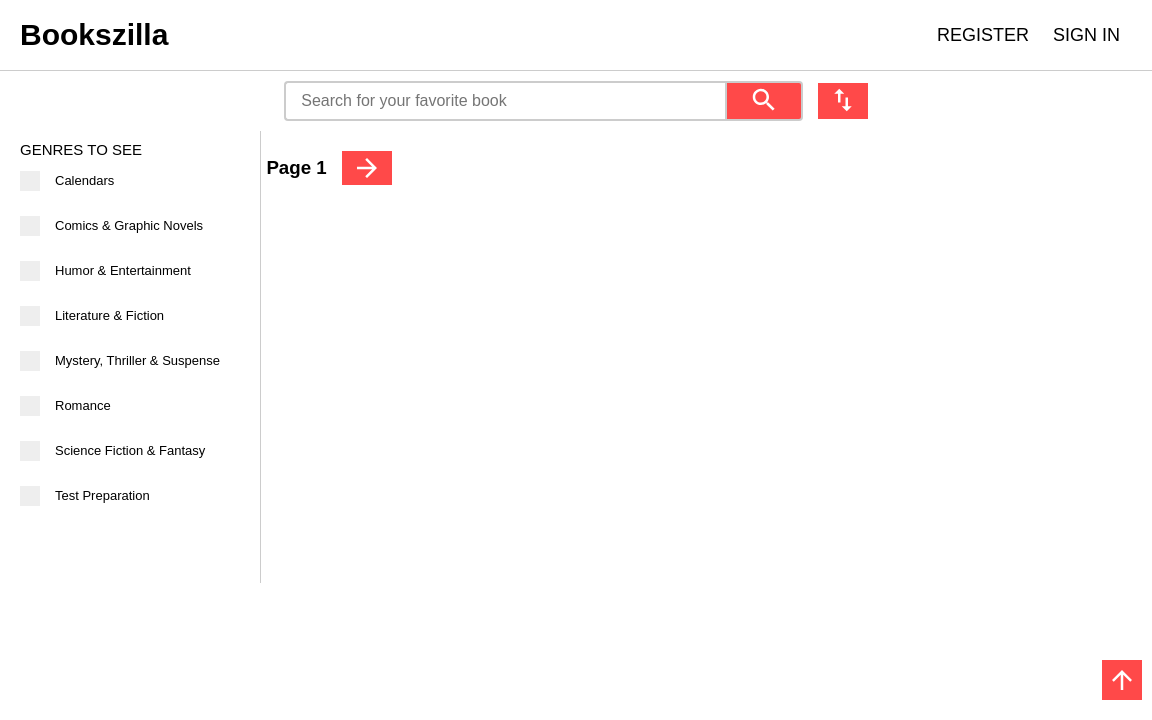
Register form › Password and confirm password not corresponding should result in unsuccessful register
Click the button with id "register-button": [983, 35] box [925,14,1041,56]
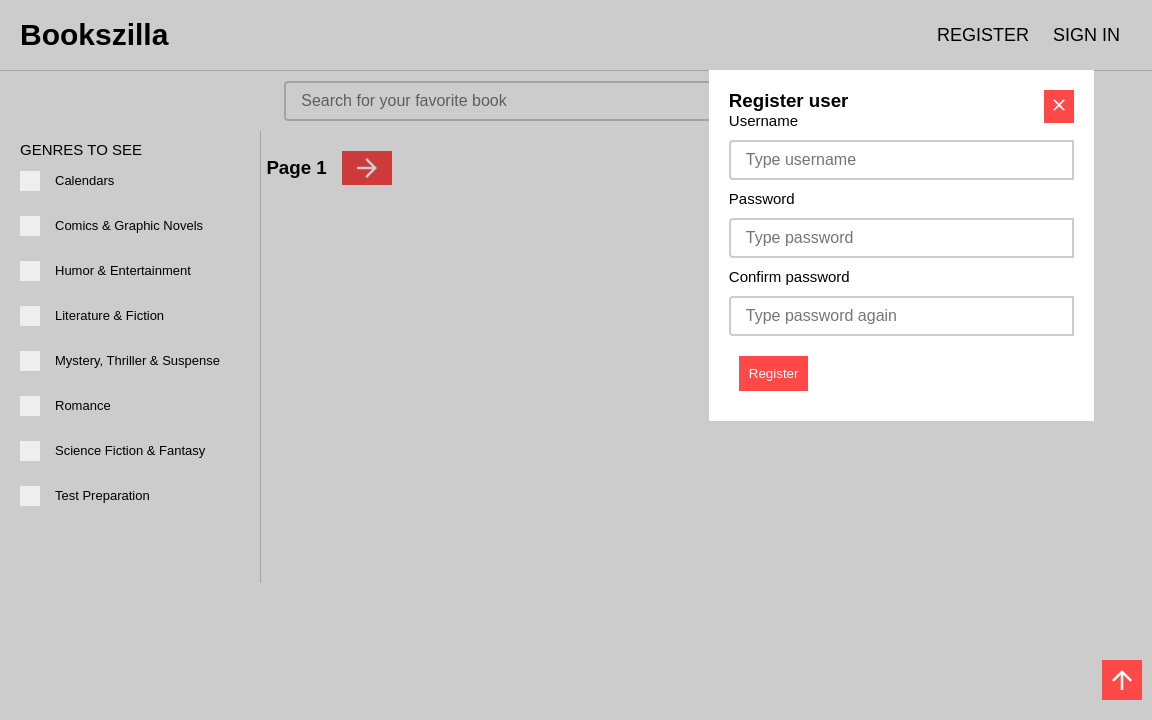
In the field with id "username-input": [902, 160] box [729,140,1075,180], type "myUsername"
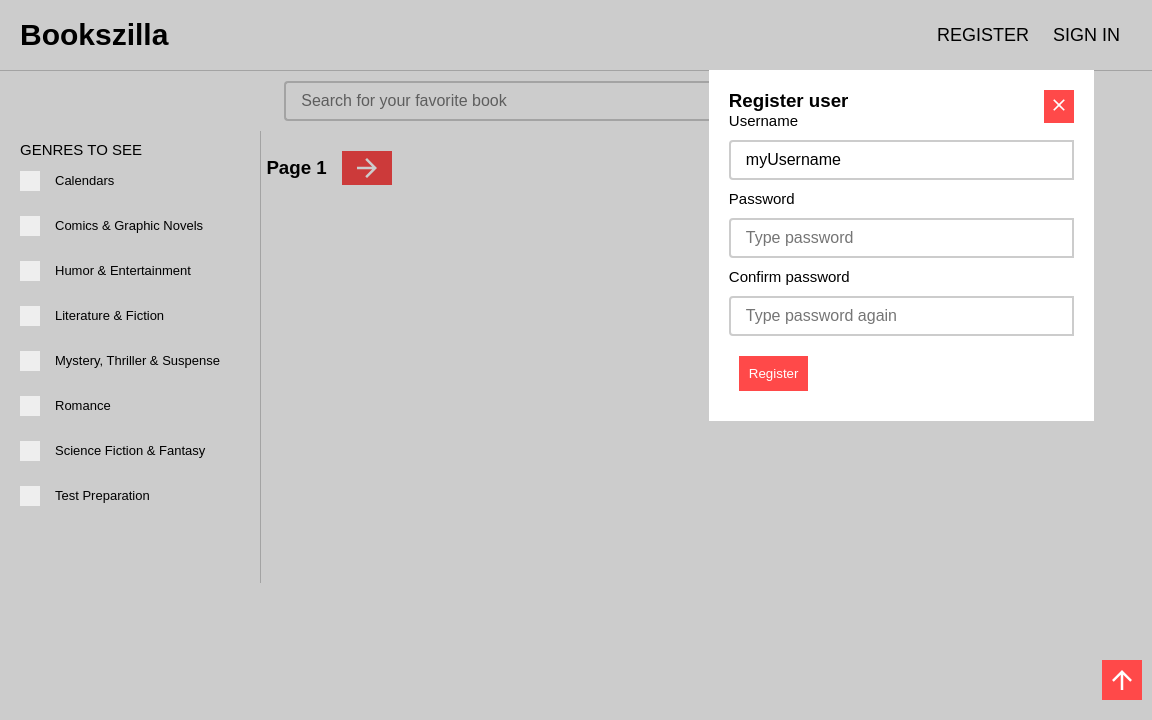
In the password field with placeholder "Type password": [902, 238] box [729,218,1075,258], type "myPassword"
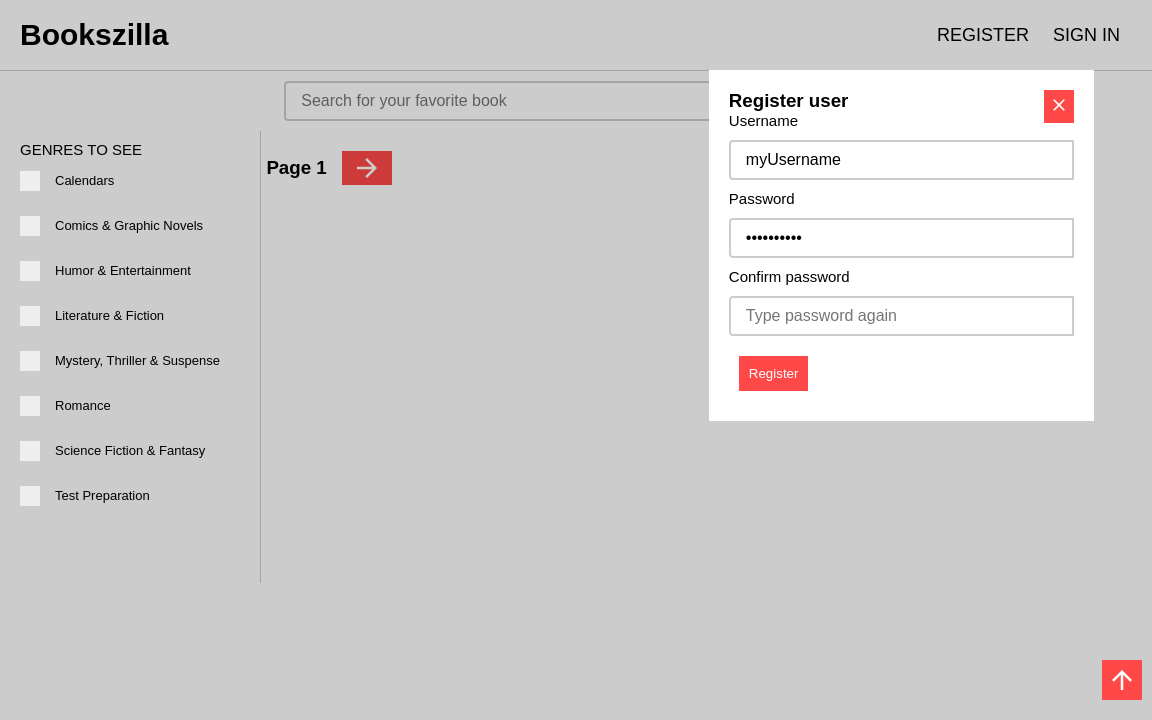
In the password field with id "confirm-password-input": [902, 316] box [729,296,1075,336], type "NOTmyPassword"
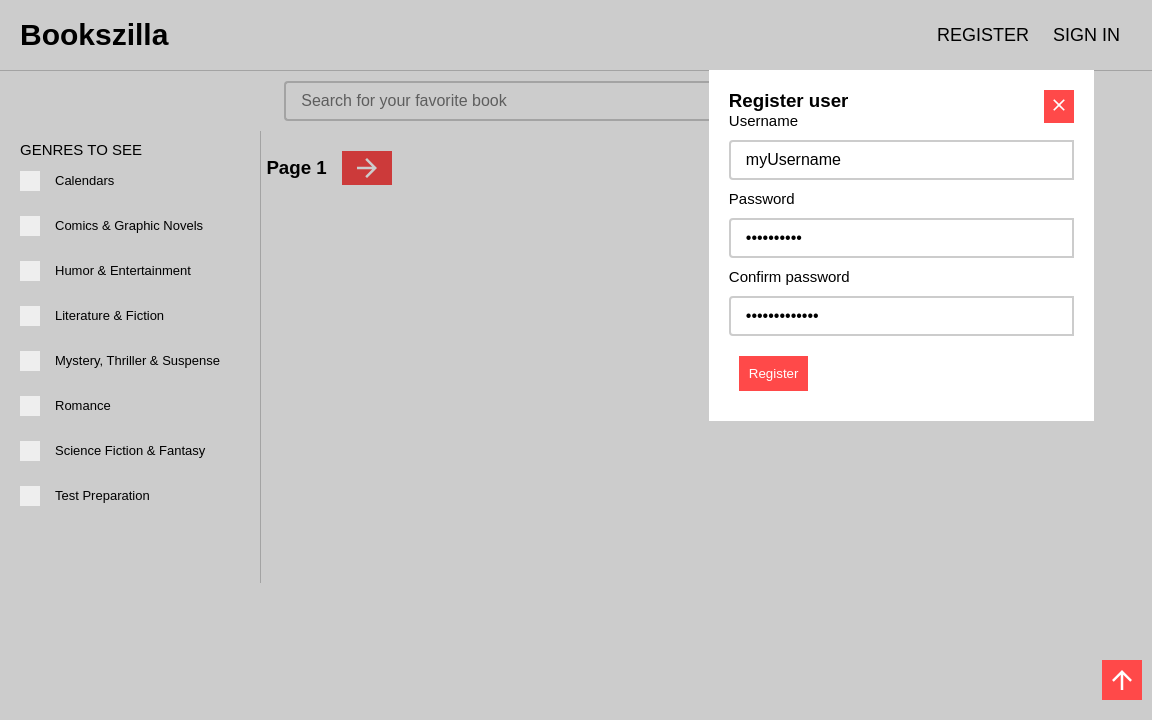
Click the button with id "user-submit": [774, 374] box [739,356,809,391]
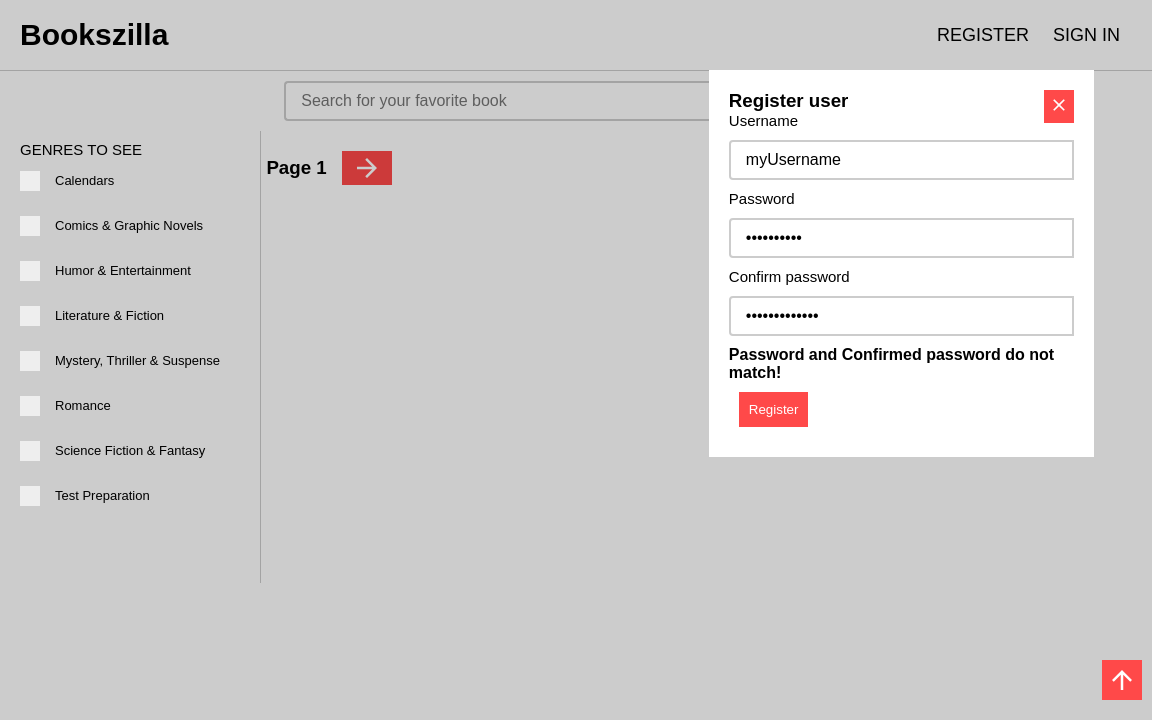
Result: the text "Password and Confirmed password do not match!" is shown at [729,346,1054,381]
